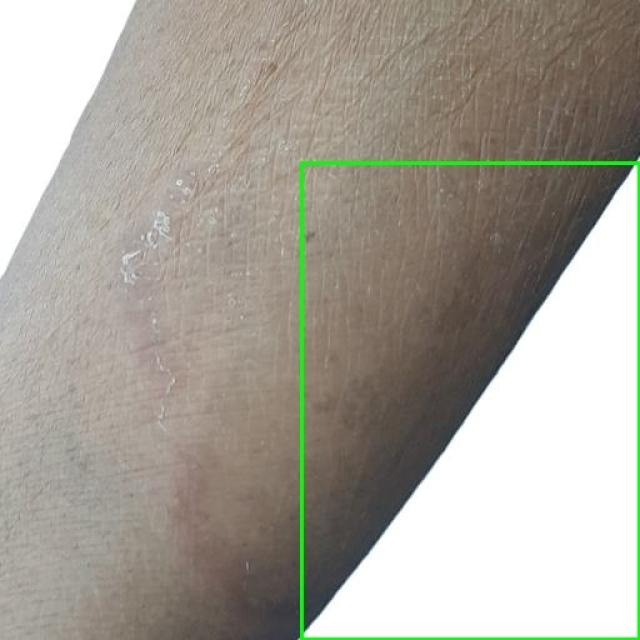Tinea Corporis: (301, 162, 639, 639)
